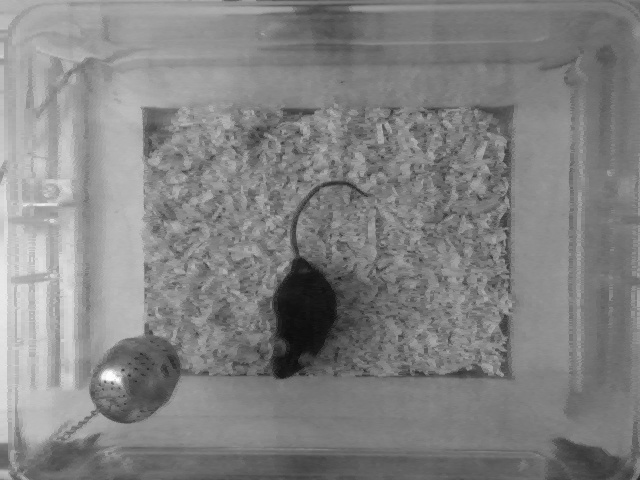mice: (271, 180, 372, 381)
